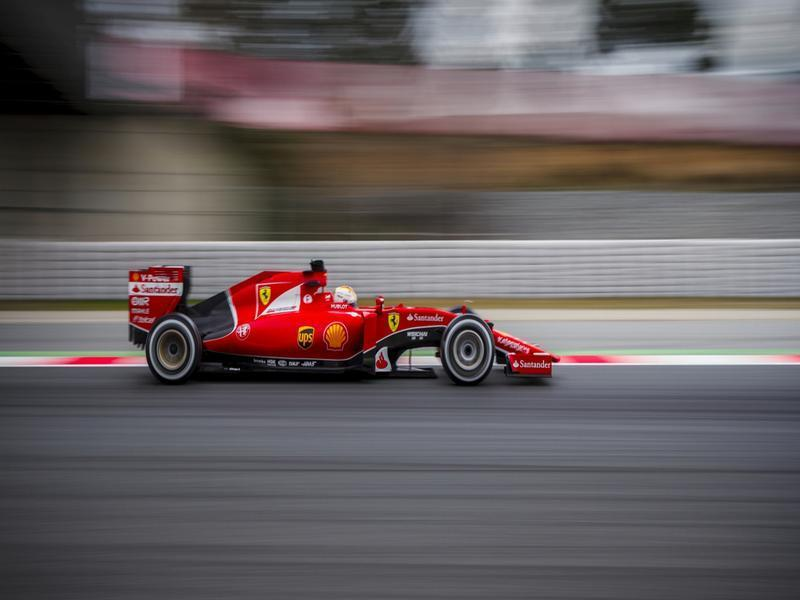f1: (118, 221, 582, 414)
